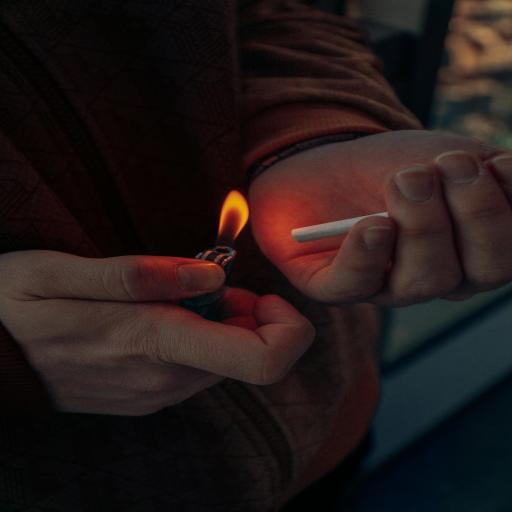lighter: (177, 180, 261, 285)
